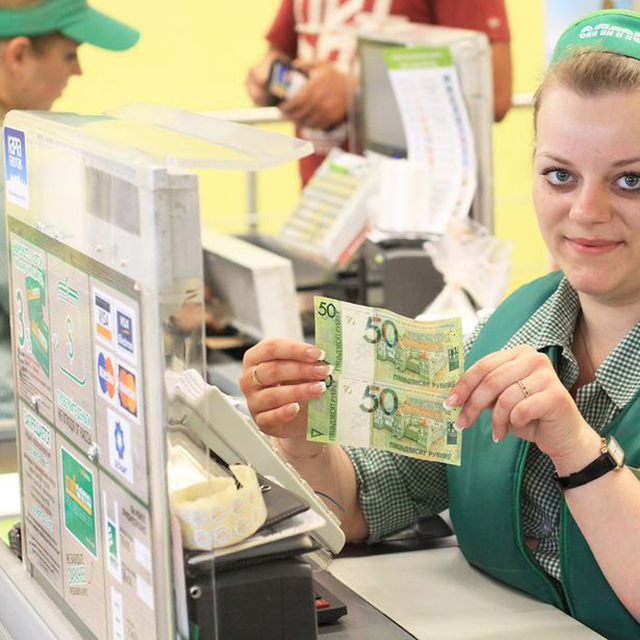banknotes: (306, 297, 464, 468)
